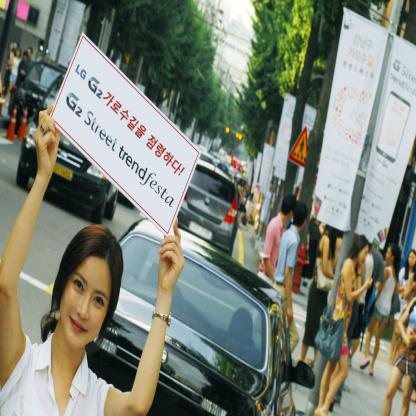Car: (16, 60, 317, 416)
